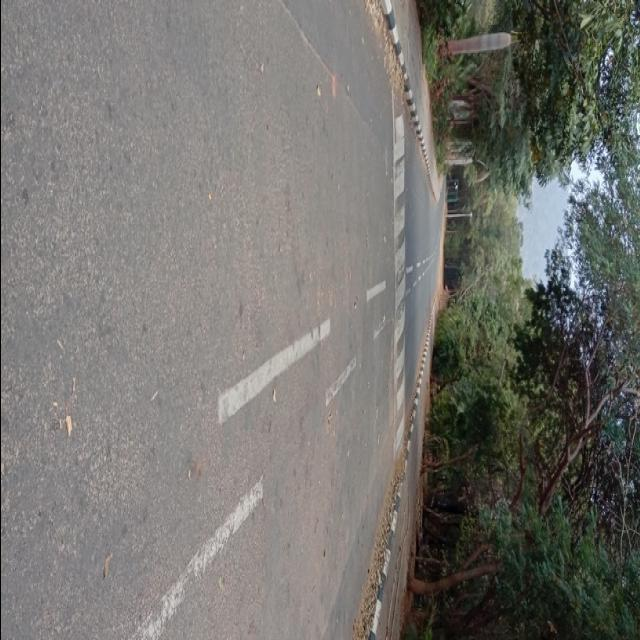speedbreaker: (391, 86, 409, 476)
